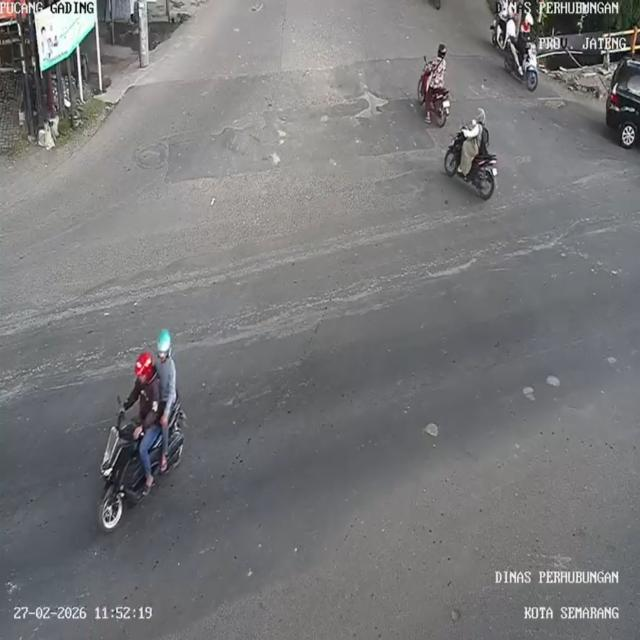motorcycle: (91, 419, 180, 536), (442, 132, 500, 202), (418, 70, 450, 127), (505, 41, 540, 90), (492, 18, 515, 52)
person: (150, 326, 184, 425), (127, 356, 163, 445), (462, 108, 492, 158), (425, 43, 447, 86), (517, 12, 535, 49)
rider_region: (84, 325, 188, 531), (443, 108, 499, 203), (418, 42, 451, 128), (504, 12, 540, 89)
